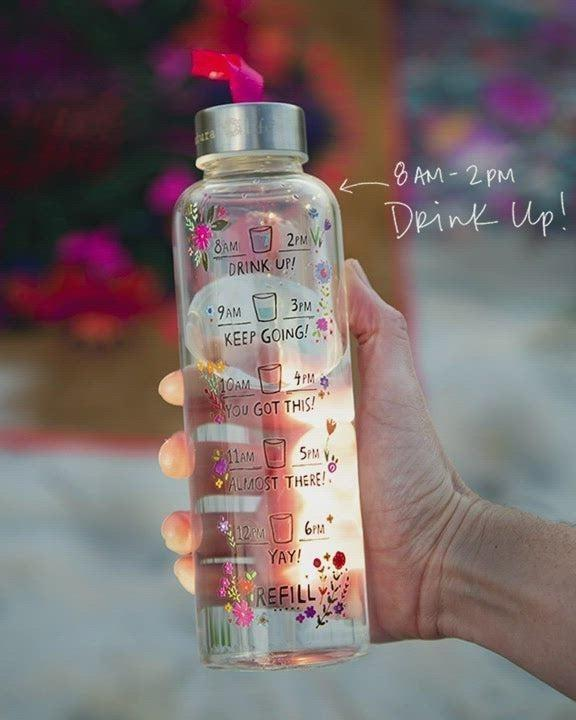gym bottle: (171, 99, 374, 674)
